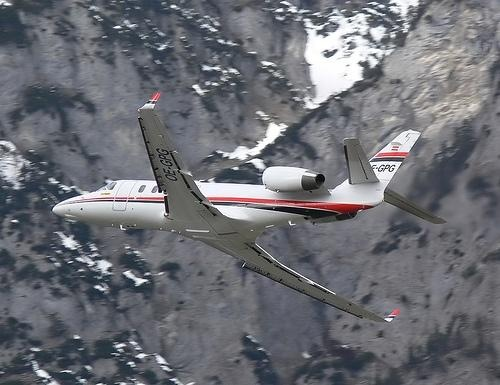aeroplane: (54, 94, 449, 322)
